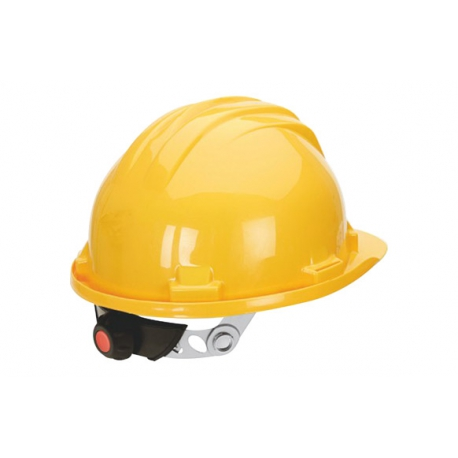casco: (68, 94, 390, 320)
